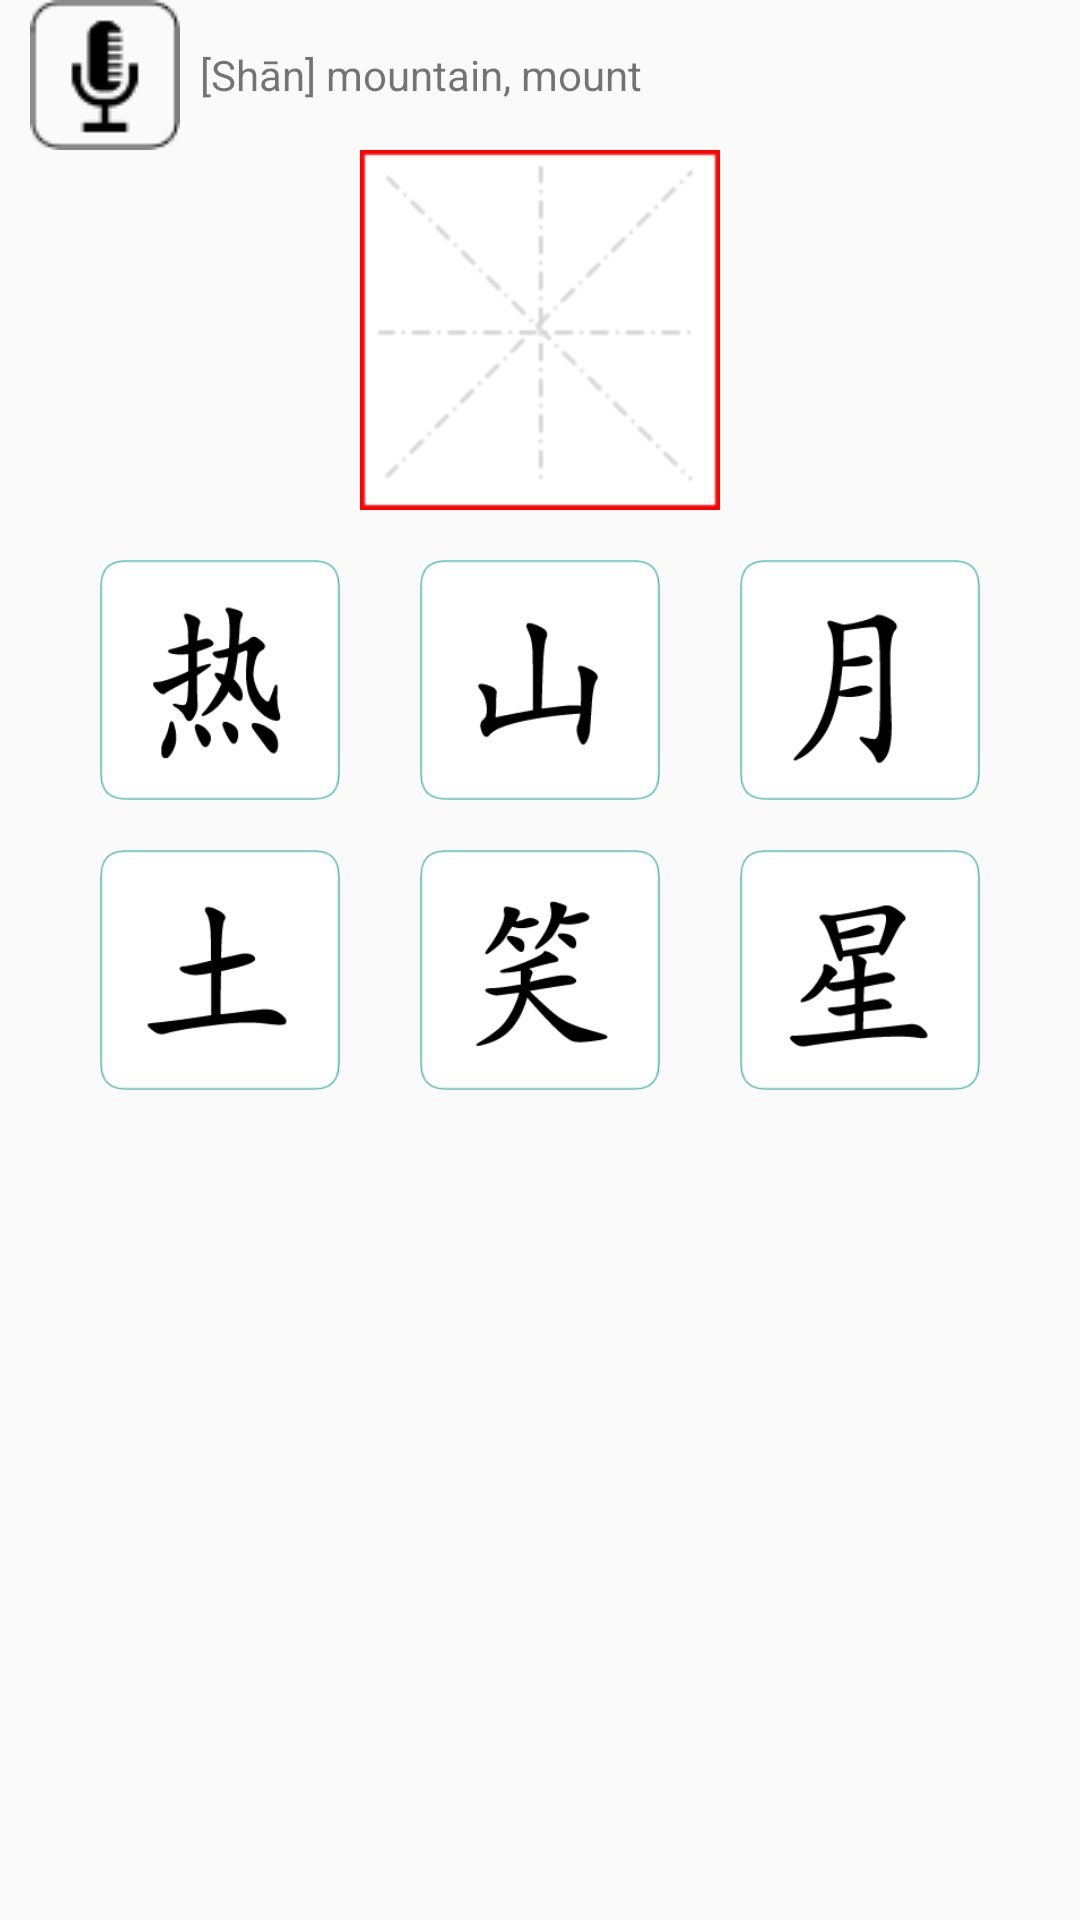

Named icons in this screenshot (1080px×1920px) and their bounding boxes, [x1,y1,x2,y2]:
micsicon: [30,0,180,150]
